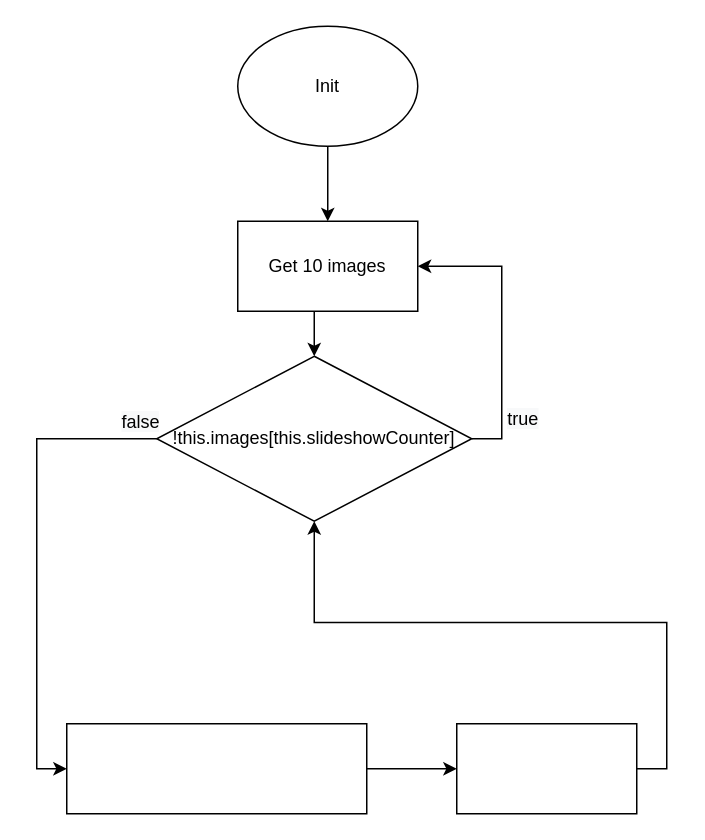
Image size: 705x840. Some labels were removed from this diagram. Here are the shapes that lost their labels. From the top down, the centre of each, then its label:
At point 216,768: "show this.image[this.slideshowCounter]".
At point 546,768: "Increase this.slideshowCounter".
